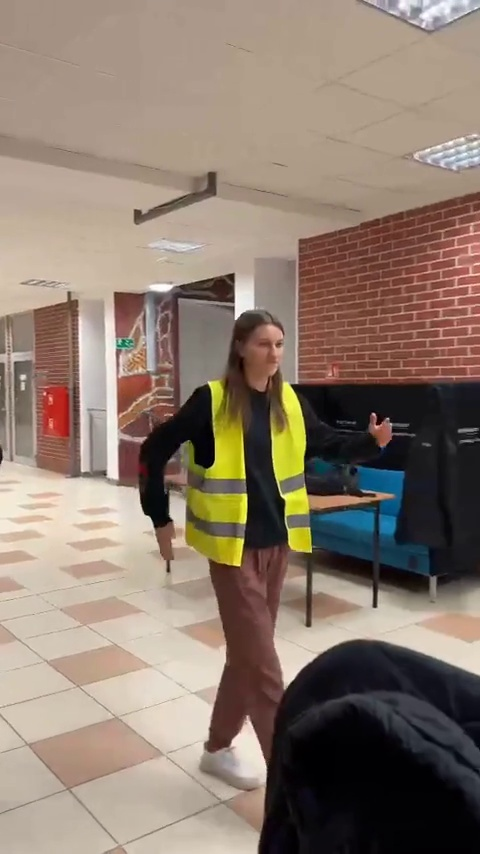vest: (144, 317, 387, 782)
